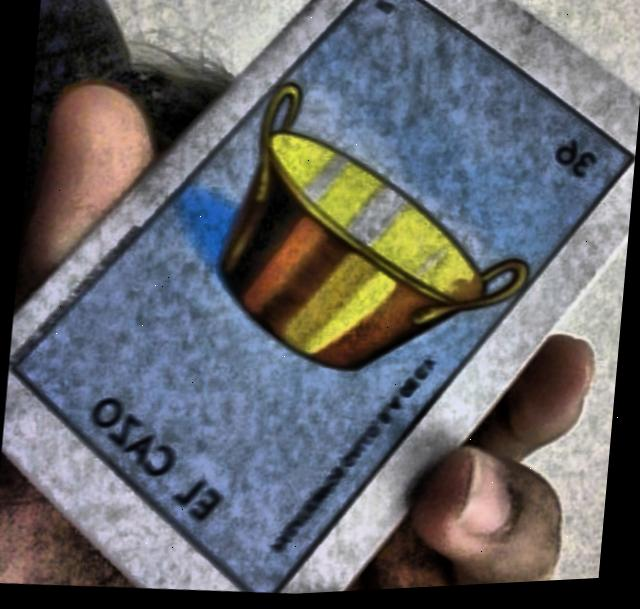El Cazo: (13, 0, 635, 595)
